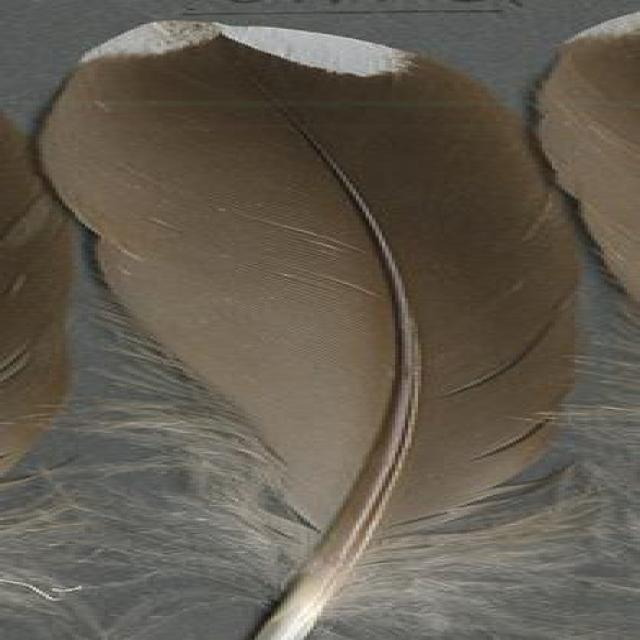feather: (33, 16, 578, 640)
